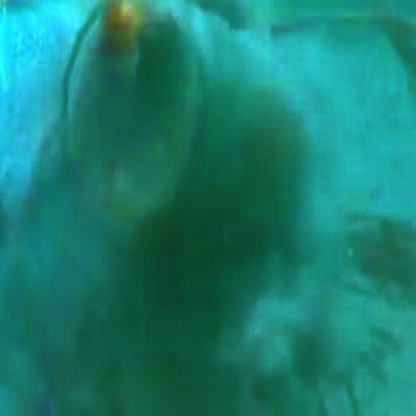gbottle: (70, 22, 327, 313)
